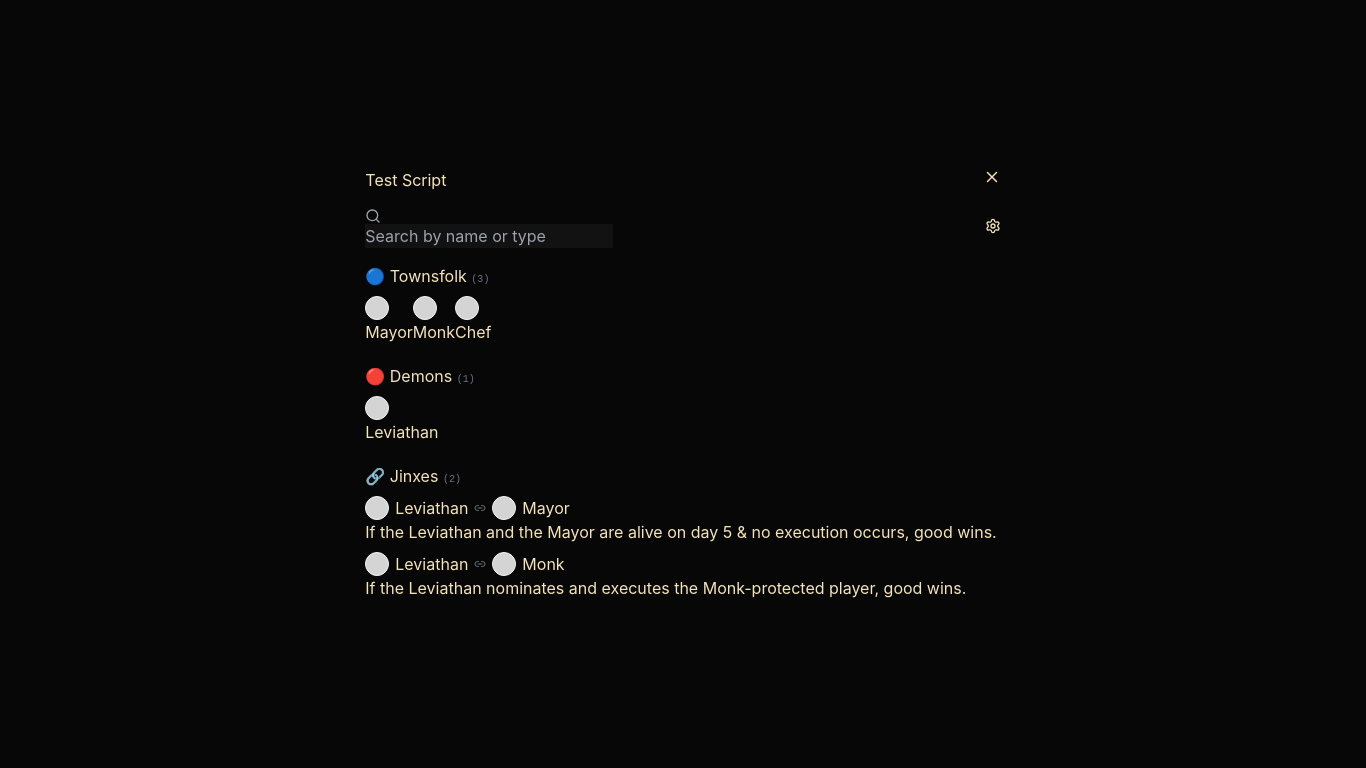
Scenario: ScriptCharactersModal jinxes › honours the storyteller in-play filter
The width and height of the screenshot is (1366, 768).
Click the button named "View settings" at (993, 226), box x1=985 y1=218 x2=1001 y2=234
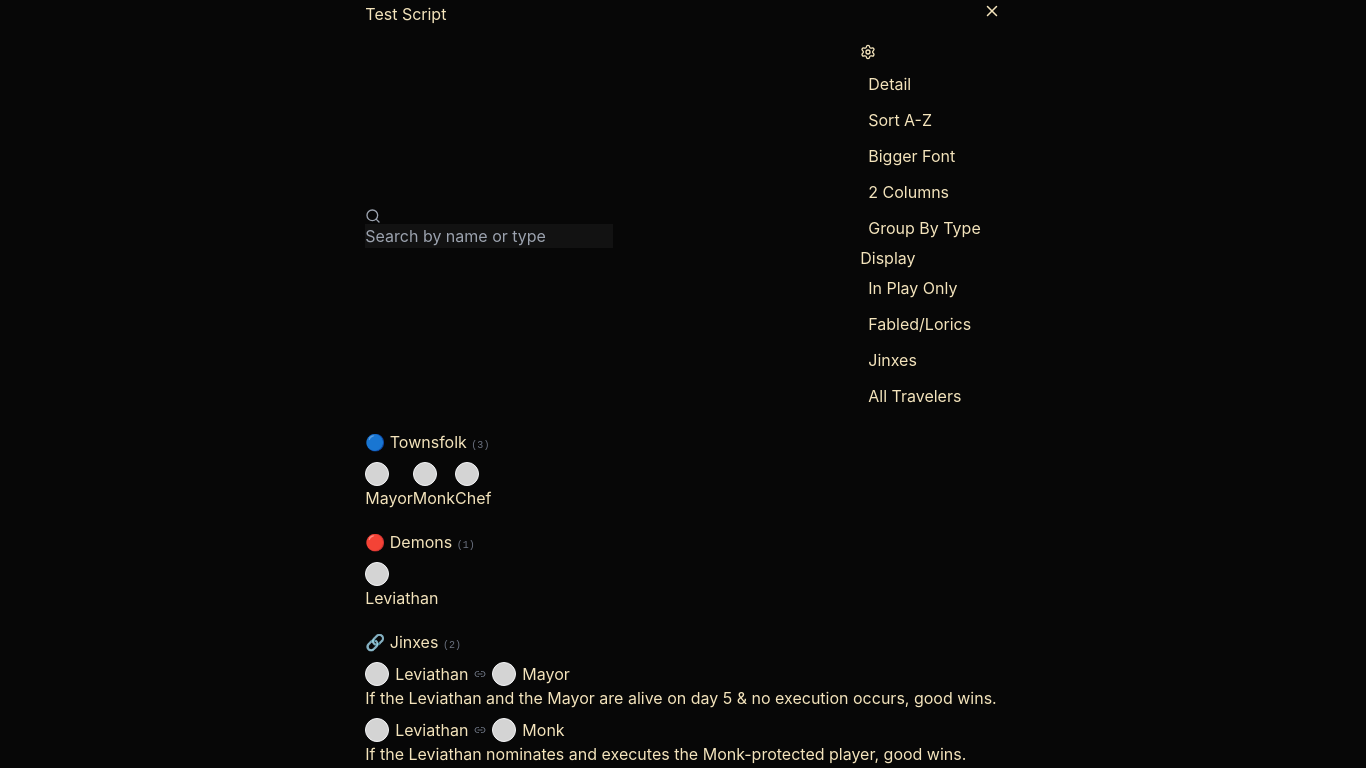
Click the checkbox labelled "In Play Only" at (913, 288), box x1=868 y1=278 x2=958 y2=298
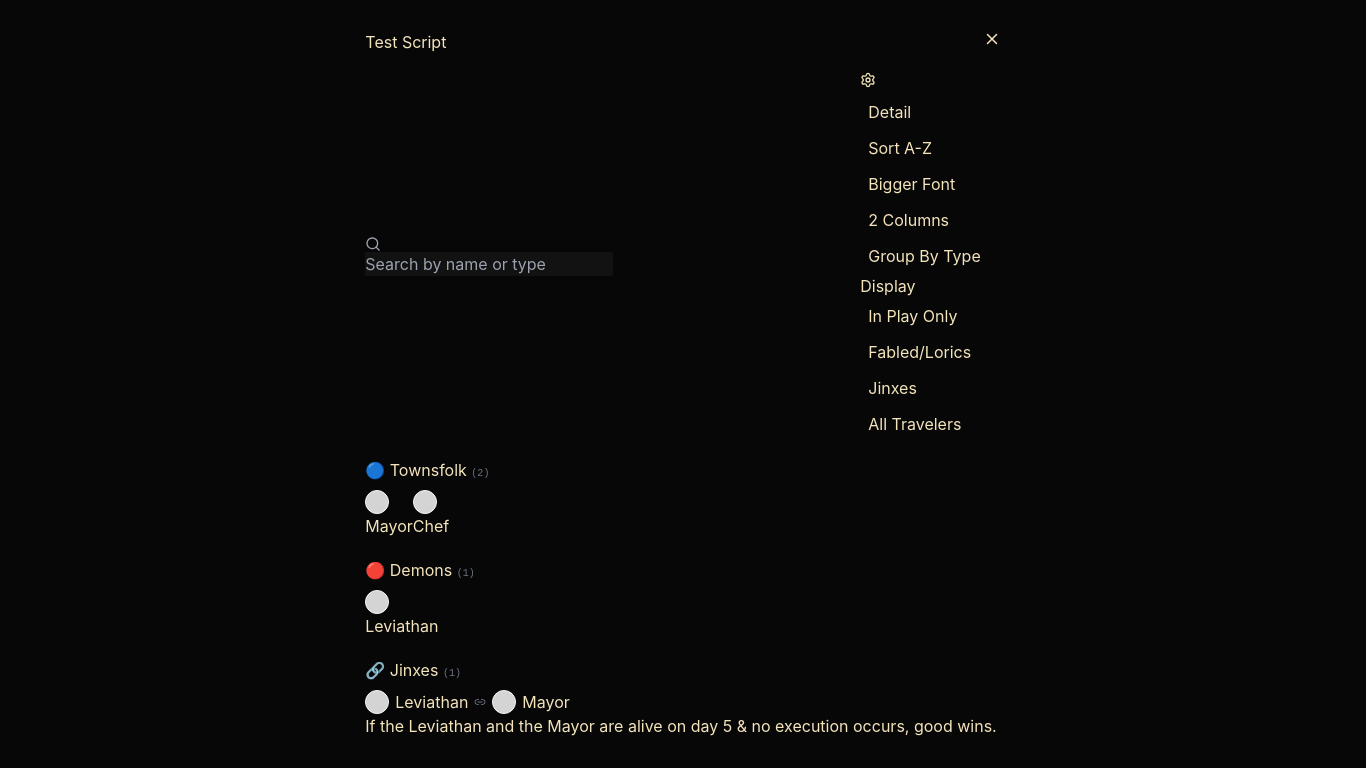
Check: the text "no execution occurs, good wins" is shown, box x1=365 y1=716 x2=997 y2=736
Check: the text "executes the Monk-protected player" is gone
